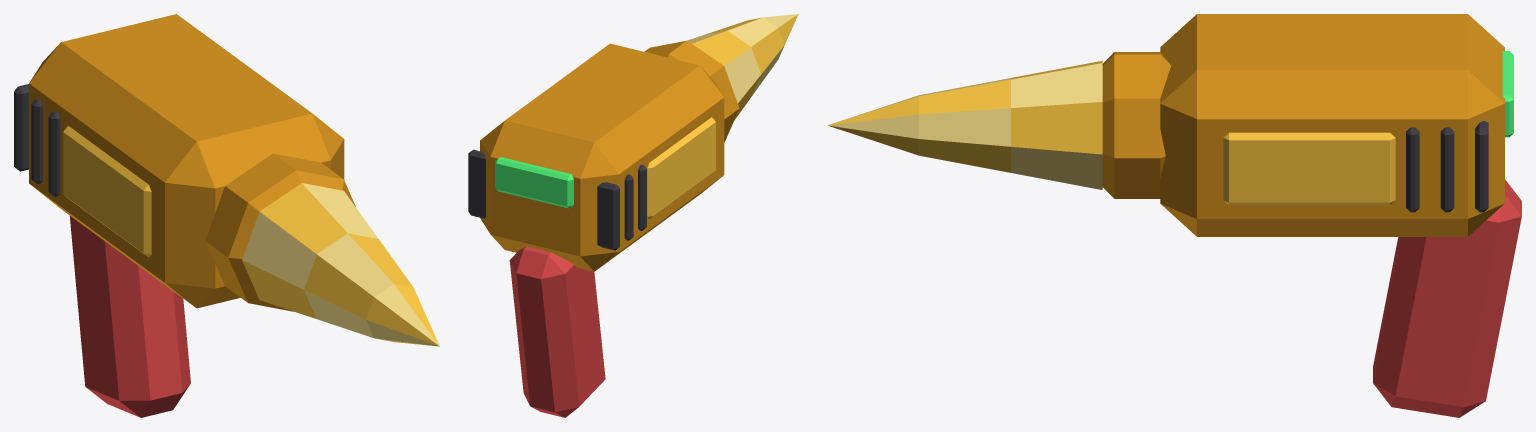
File: GoldDrill.fbx
The picture shows the model from 3 angles, left to right: view 1: azimuth 30°, elevation 25°; view 2: azimuth 150°, elevation 25°; view 3: azimuth 270°, elevation 25°; orthographic projection. The views are drawn at different scales.
Parts seen in each view (by area): view 1: GoldDrill; view 2: GoldDrill; view 3: GoldDrill.
Part boxes in pixels (x1,y1,x2,y2): GoldDrill: (14,14,439,417); GoldDrill: (468,14,798,417); GoldDrill: (827,14,1521,417).
Bounding box in the file's own units: 0.97 × 1.77 × 3.02.
1 material, 1 textured.
